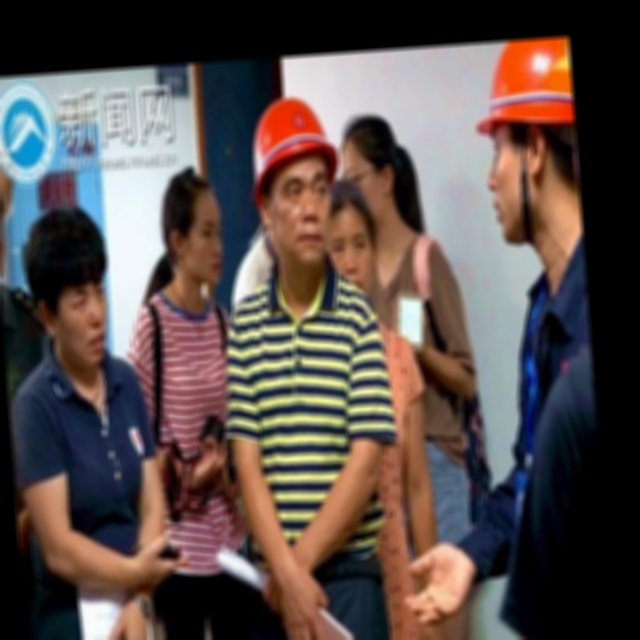Con_Casco: (249, 98, 339, 264)
Sin_Casco_Mascarrilla: (19, 212, 115, 361), (156, 161, 236, 284)
Sin_Chaleco: (227, 280, 392, 553)
